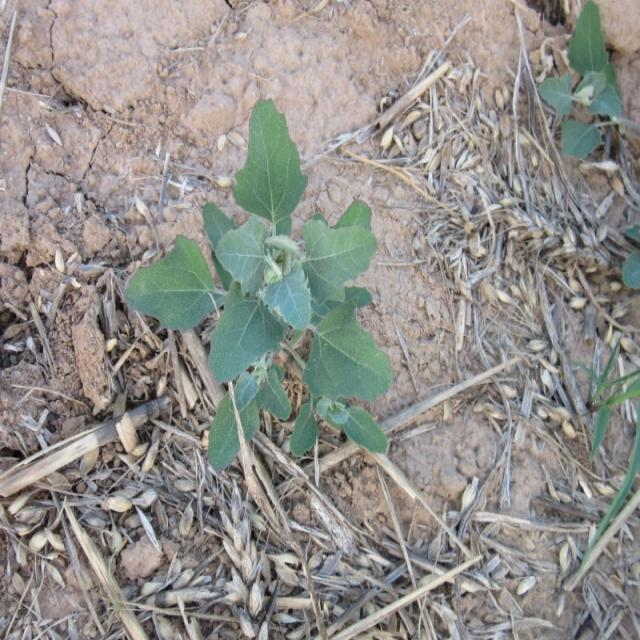ca: (127, 102, 392, 469)
